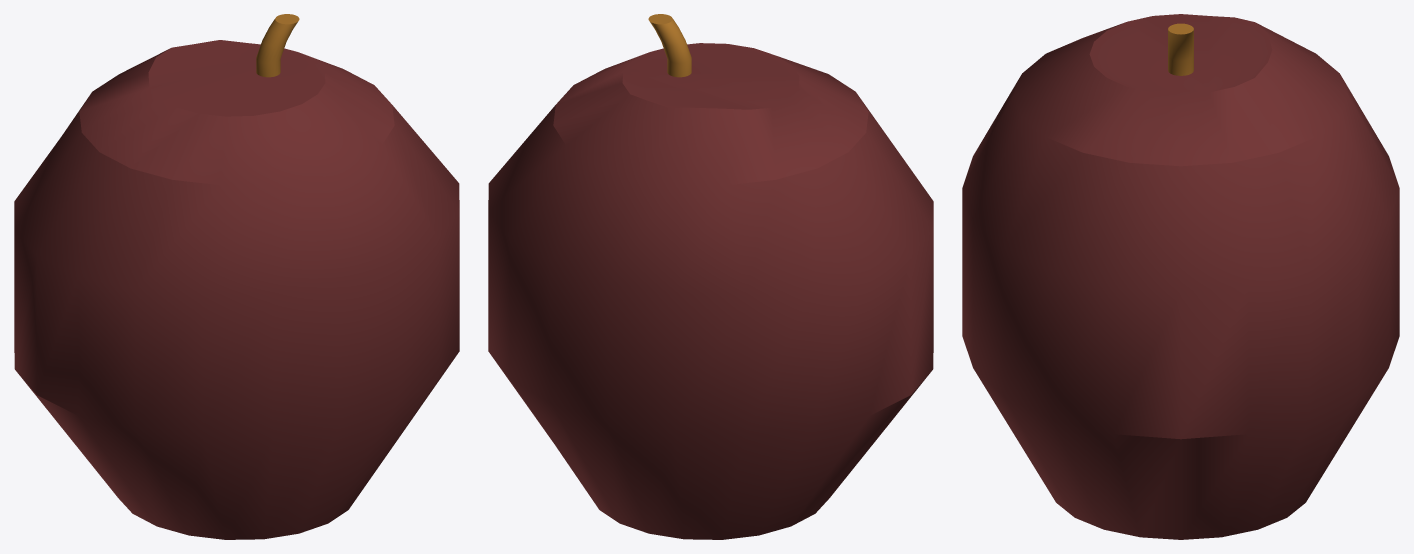
File: Apple.fbx
The picture shows the model from 3 angles, left to right: view 1: azimuth 30°, elevation 25°; view 2: azimuth 150°, elevation 25°; view 3: azimuth 270°, elevation 25°; orthographic projection. The views are drawn at different scales.
Visible parts, largest first — view 1: Apploe, pCylinder2; view 2: Apploe, pCylinder2; view 3: Apploe, pCylinder2.
Boxes of the visible parts, box(x1,y1,x2,y2) form: Apploe: box(14, 40, 459, 539); pCylinder2: box(256, 14, 299, 77); Apploe: box(488, 43, 933, 539); pCylinder2: box(648, 14, 691, 77); Apploe: box(962, 14, 1399, 539); pCylinder2: box(1168, 23, 1193, 75).
Bounding box in the file's own units: 13.77 × 15.02 × 12.33.
